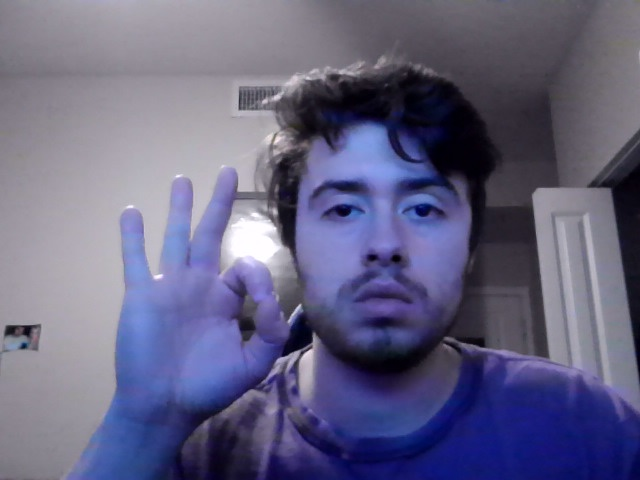f: (113, 165, 290, 431)
